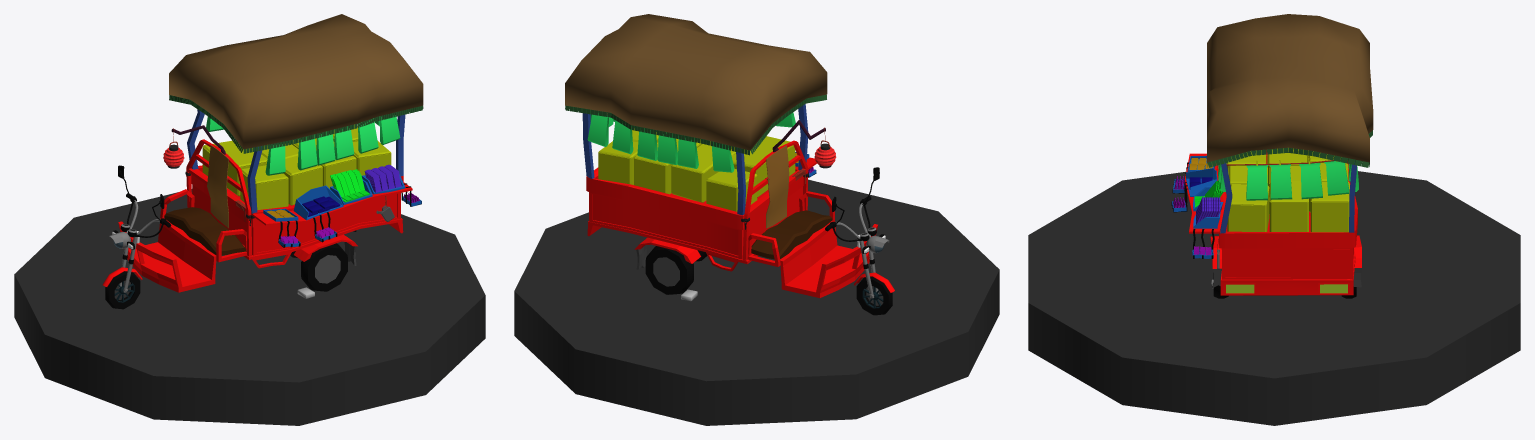
File: motoro.fbx
3 views of the same model, side by side, from view 1: azimuth 30°, elevation 25°; view 2: azimuth 150°, elevation 25°; view 3: azimuth 270°, elevation 25° (orthographic). The views are drawn at different scales.
Parts seen in each view (by area): view 1: Cylinder008, Plane001, Box115, Box003, Tube004, Box070, Tube002, Box004, Box096, Line001, Plane002, Box011 (+9 smaller); view 2: Cylinder008, Plane001, Tube004, Box115, Box003, Box070, Tube002, Box004, Box011, Box008, Plane002, Line001 (+4 smaller); view 3: Cylinder008, Plane001, Tube004, Box115, Box070, Line001, Box096, Plane002, Box008, dddd, Box055, Box006.
Boxes of the visible parts, x1,y1,x2,y2 form: Cylinder008: (14,189,485,425); Plane001: (169,14,423,149); Box115: (202,124,391,209); Box003: (118,189,246,292); Tube004: (191,165,403,255); Box070: (206,115,400,175); Tube002: (105,243,347,309); Box004: (164,207,246,255); Box096: (263,174,421,246); Line001: (244,218,403,268); Plane002: (169,95,423,153); Box011: (207,145,228,228); Cylinder008: (514,179,999,425); Plane001: (565,14,827,150); Tube004: (586,167,803,259); Box115: (598,128,795,211); Box003: (747,191,877,297); Box070: (587,112,795,172); Tube002: (645,246,892,315); Box004: (751,210,832,259); Box011: (766,145,789,228); Box008: (582,104,808,215); Plane002: (565,94,826,155); Line001: (587,221,758,271); Cylinder008: (1028,171,1520,425); Plane001: (1207,14,1373,162); Tube004: (1216,153,1357,279); Box115: (1226,148,1349,232); Box070: (1218,161,1358,200); Line001: (1210,235,1361,295); Box096: (1172,155,1223,258); Plane002: (1207,130,1372,167); Box008: (1220,160,1356,233); dddd: (1226,284,1347,293); Box055: (1196,197,1220,224); Box006: (1185,153,1221,233).
Size of the model in its own units: 197 by 121 by 188.
